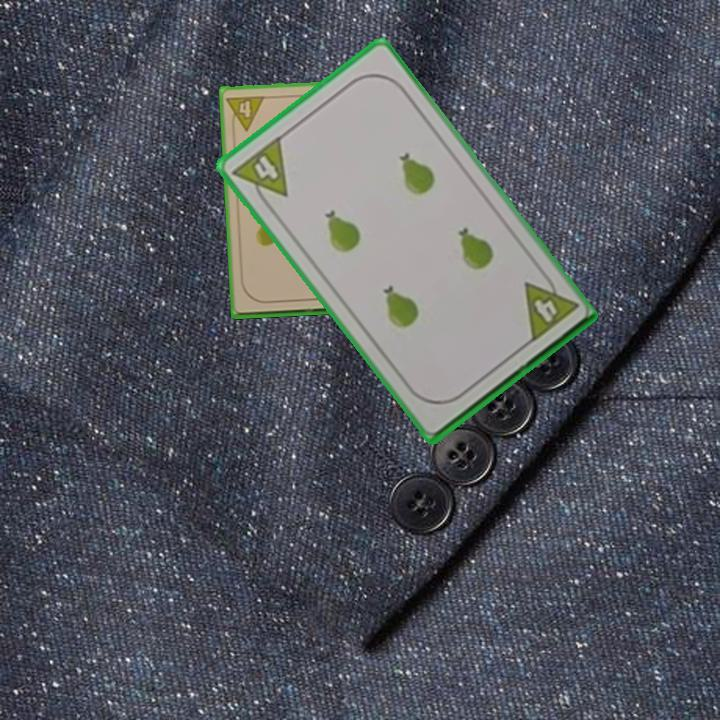4p: (228, 132, 291, 212), (520, 267, 580, 346), (223, 92, 267, 134)
